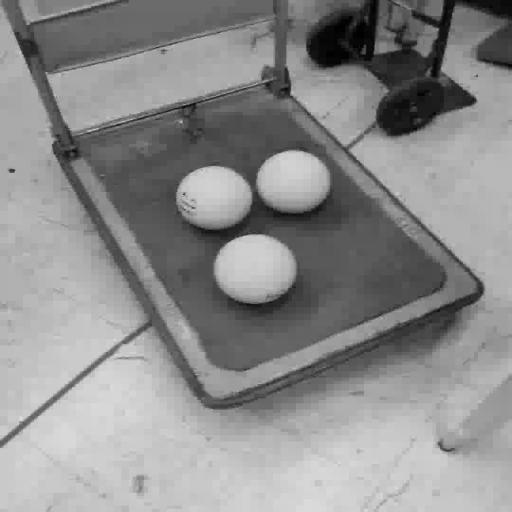fuel: (214, 235, 297, 304), (176, 166, 252, 230), (256, 150, 331, 213)
